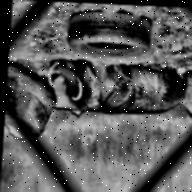boar: (45, 59, 188, 118)
